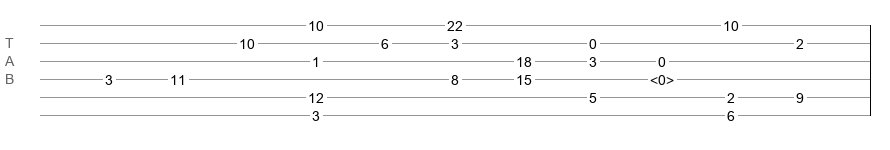0: (589, 36, 597, 46), (658, 54, 666, 64)
1: (312, 54, 320, 64)
10: (239, 36, 255, 46), (308, 18, 324, 28), (723, 18, 739, 28)
11: (170, 72, 186, 82)
12: (308, 90, 324, 100)
15: (516, 72, 532, 82)
18: (516, 54, 532, 64)
2: (727, 90, 735, 100), (796, 36, 804, 46)
22: (447, 18, 463, 28)
3: (105, 72, 113, 82), (312, 108, 320, 118), (451, 36, 459, 46), (589, 54, 597, 64)
5: (589, 90, 597, 100)
6: (381, 36, 389, 46), (727, 108, 735, 118)
8: (451, 72, 459, 82)
9: (796, 90, 804, 100)
harmonic: (650, 72, 674, 82)
